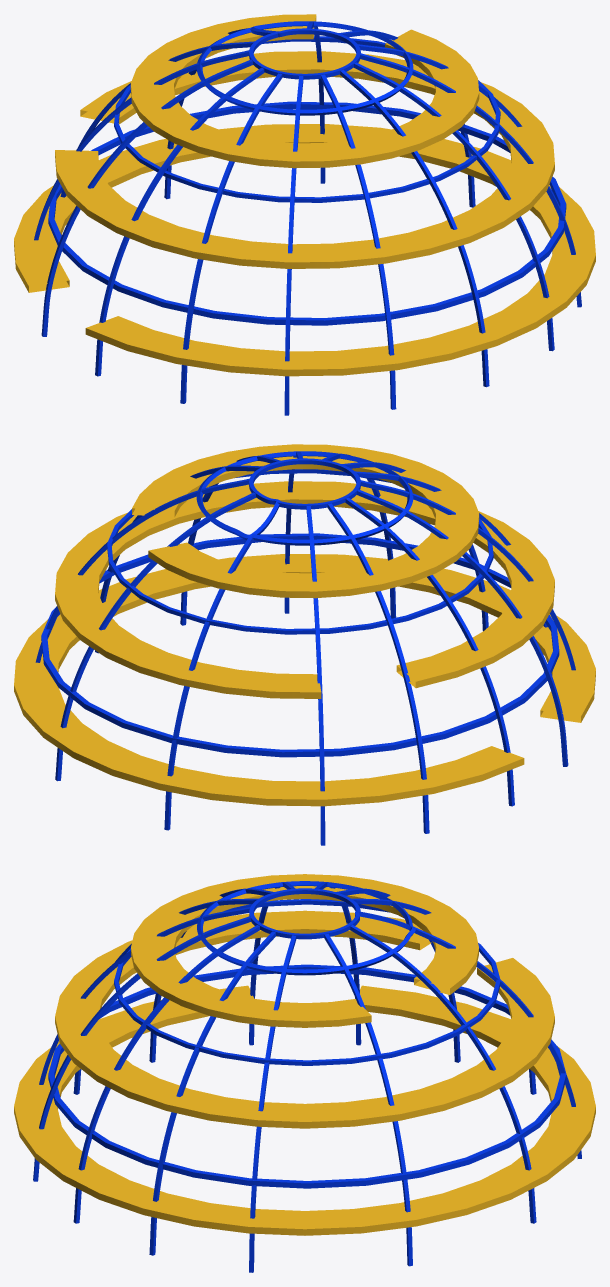
Rendered from MOD_zeuescalade.FBX.
The picture shows the model from 3 angles, top to bottom: view 1: azimuth 30°, elevation 25°; view 2: azimuth 150°, elevation 25°; view 3: azimuth 270°, elevation 25°; orthographic projection.
Parts seen in each view (by area): view 1: MOD_zonegrimpe; view 2: MOD_zonegrimpe; view 3: MOD_zonegrimpe.
Part boxes in pixels (x1,y1,x2,y2): MOD_zonegrimpe: (14, 14, 595, 415); MOD_zonegrimpe: (14, 444, 595, 845); MOD_zonegrimpe: (14, 874, 595, 1272).
Size of the model in its own units: 5.37 by 2.54 by 5.42.
